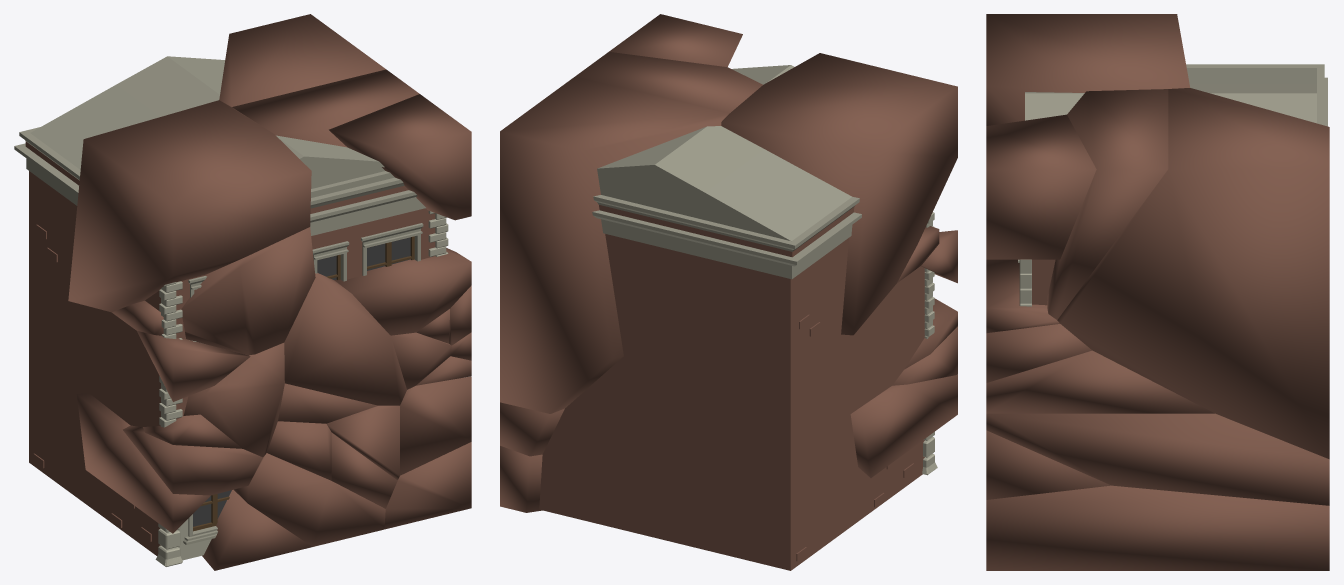
File: building3_big_chunks.glb
3 renders of one model, left to right at view 1: azimuth 30°, elevation 25°; view 2: azimuth 150°, elevation 25°; view 3: azimuth 270°, elevation 25°, orthographic. The views are drawn at different scales.
Visible parts, largest first — view 1: Building3_Big.001_cell.025, Building3_Big.001_cell.017, Building3_Big.001_cell.024, Building3_Big.001_cell.027, Building3_Big.001_cell.020, Building3_Big.001_cell.026, Building3_Big.001_cell.021, Building3_Big.001_cell.001, Building3_Big.001_cell.009, Building3_Big.001_cell.016, Building3_Big.001_cell.032, Building3_Big.001_cell.005 (+21 smaller); view 2: Building3_Big.001_cell.025, Building3_Big.001_cell.006, Building3_Big.001_cell.026, Building3_Big.001_cell.021, Building3_Big.001_cell.017, Building3_Big.001_cell.009, Building3_Big.001_cell.032, Building3_Big.200, Building3_Big.001_cell.020, Building3_Big.001_cell.007, Building3_Big.001_cell.002, Building3_Big.001_cell.011 (+4 smaller); view 3: Building3_Big.001_cell.026, Building3_Big.001_cell.007, Building3_Big.001_cell.002, Building3_Big.001_cell.017, Building3_Big.001_cell.032, Building3_Big.001_cell.020, Building3_Big.001_cell.004, Building3_Big.001_cell.025, Building3_Big.001_cell.012, Building3_Big.001_cell.029, Building3_Big.001_cell.016, Building3_Big.895.
Boxes of the visible parts, <box> form: Building3_Big.001_cell.025: <box>14,56,435,560</box>; Building3_Big.001_cell.017: <box>68,100,311,312</box>; Building3_Big.001_cell.024: <box>284,241,406,405</box>; Building3_Big.001_cell.027: <box>181,227,315,355</box>; Building3_Big.001_cell.020: <box>329,94,471,220</box>; Building3_Big.001_cell.026: <box>219,14,385,106</box>; Building3_Big.001_cell.021: <box>29,298,100,513</box>; Building3_Big.001_cell.001: <box>234,453,385,546</box>; Building3_Big.001_cell.009: <box>76,393,210,533</box>; Building3_Big.001_cell.016: <box>334,248,471,335</box>; Building3_Big.001_cell.032: <box>232,69,419,147</box>; Building3_Big.001_cell.005: <box>183,489,312,570</box>; Building3_Big.001_cell.025: <box>539,65,924,566</box>; Building3_Big.001_cell.006: <box>592,127,861,406</box>; Building3_Big.001_cell.026: <box>500,76,728,413</box>; Building3_Big.001_cell.021: <box>539,372,860,570</box>; Building3_Big.001_cell.017: <box>721,53,957,335</box>; Building3_Big.001_cell.009: <box>850,375,957,477</box>; Building3_Big.001_cell.032: <box>576,52,762,113</box>; Building3_Big.200: <box>805,238,924,548</box>; Building3_Big.001_cell.020: <box>609,14,742,66</box>; Building3_Big.001_cell.007: <box>500,446,542,512</box>; Building3_Big.001_cell.002: <box>500,402,564,456</box>; Building3_Big.001_cell.011: <box>892,326,957,385</box>; Building3_Big.001_cell.026: <box>1057,88,1329,459</box>; Building3_Big.001_cell.007: <box>986,485,1329,570</box>; Building3_Big.001_cell.002: <box>986,413,1329,505</box>; Building3_Big.001_cell.017: <box>986,14,1190,125</box>; Building3_Big.001_cell.032: <box>1047,89,1168,319</box>; Building3_Big.001_cell.020: <box>986,114,1096,259</box>; Building3_Big.001_cell.004: <box>986,350,1214,413</box>; Building3_Big.001_cell.025: <box>1025,64,1327,305</box>; Building3_Big.001_cell.012: <box>986,430,1110,499</box>; Building3_Big.001_cell.029: <box>986,324,1092,382</box>; Building3_Big.001_cell.016: <box>986,259,1059,333</box>; Building3_Big.895: <box>1025,93,1316,122</box>.
Size of the model in its own units: 10.51 by 12.66 by 9.82.
